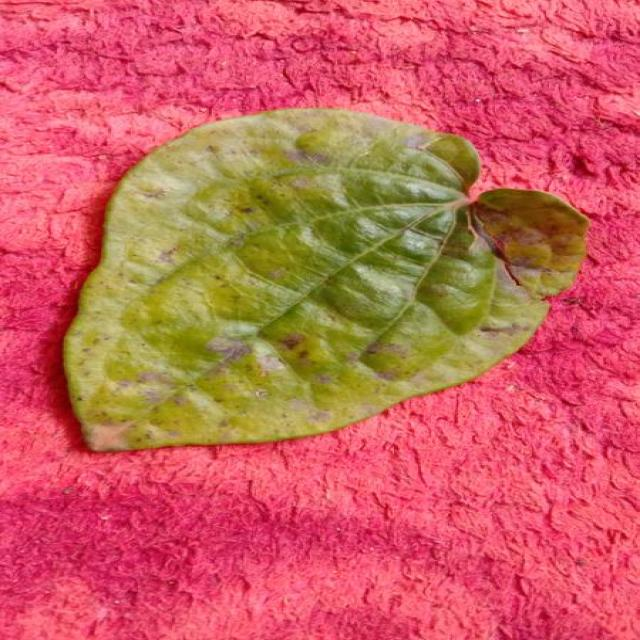defected betel: (65, 109, 587, 451)
